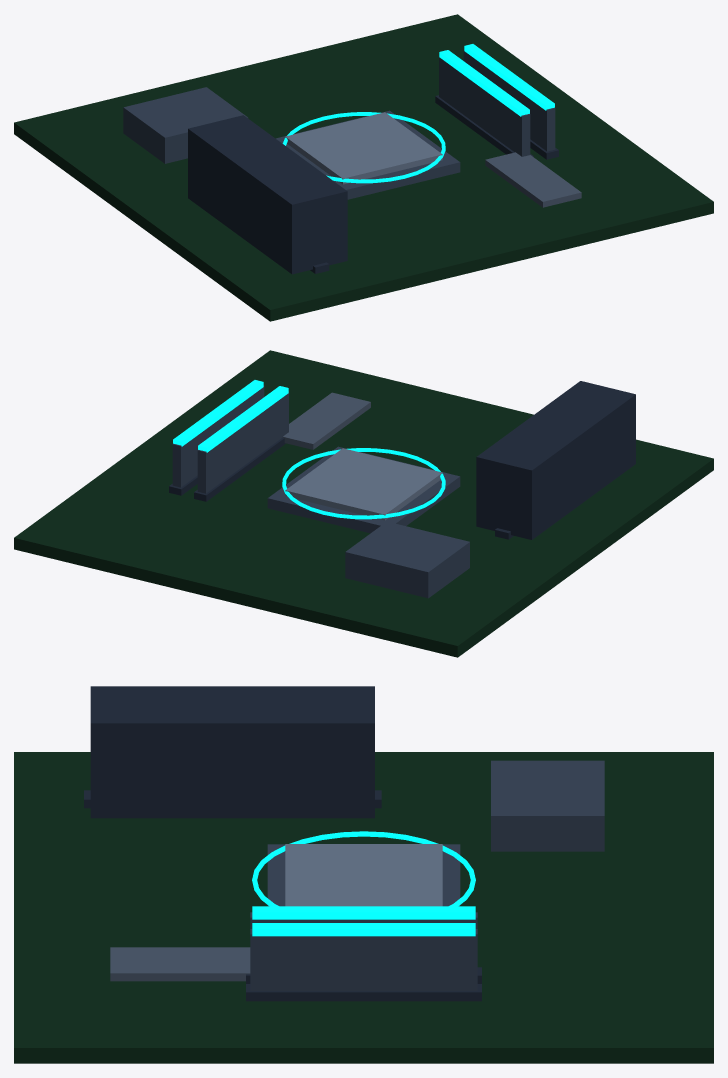
The model's file is motherboard.glb.
3 views of the same model, one above another, from view 1: azimuth 30°, elevation 25°; view 2: azimuth 150°, elevation 25°; view 3: azimuth 270°, elevation 25° (orthographic). The views are drawn at different scales.
Parts seen in each view (by area): view 1: Motherboard; view 2: Motherboard; view 3: Motherboard.
Boxes of the visible parts, x1=… form: Motherboard: x1=14, y1=14, x2=713, y2=321; Motherboard: x1=14, y1=350, x2=713, y2=657; Motherboard: x1=14, y1=686, x2=713, y2=1063.
Size of the model in its own units: 1.6 by 0.29 by 1.6.
